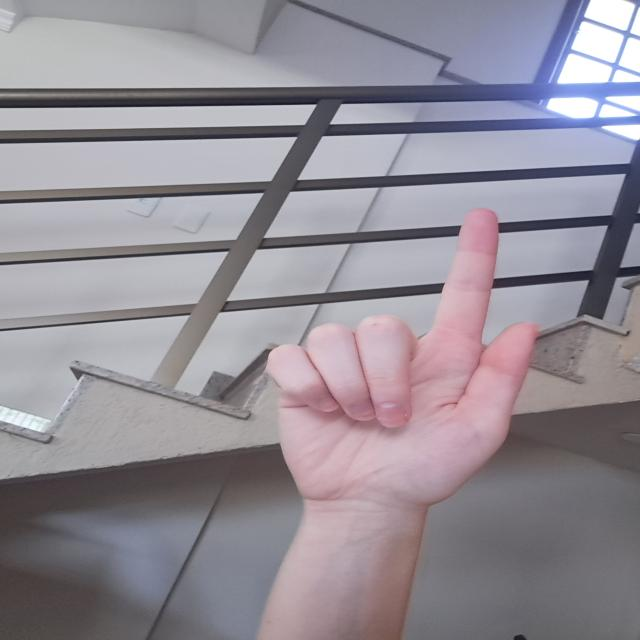G: (256, 202, 546, 502)
